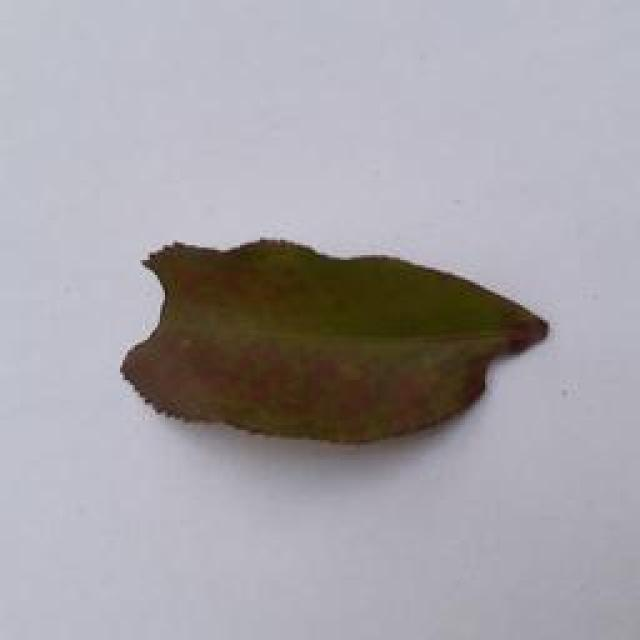Red Leaf Spot: (97, 212, 553, 455)
